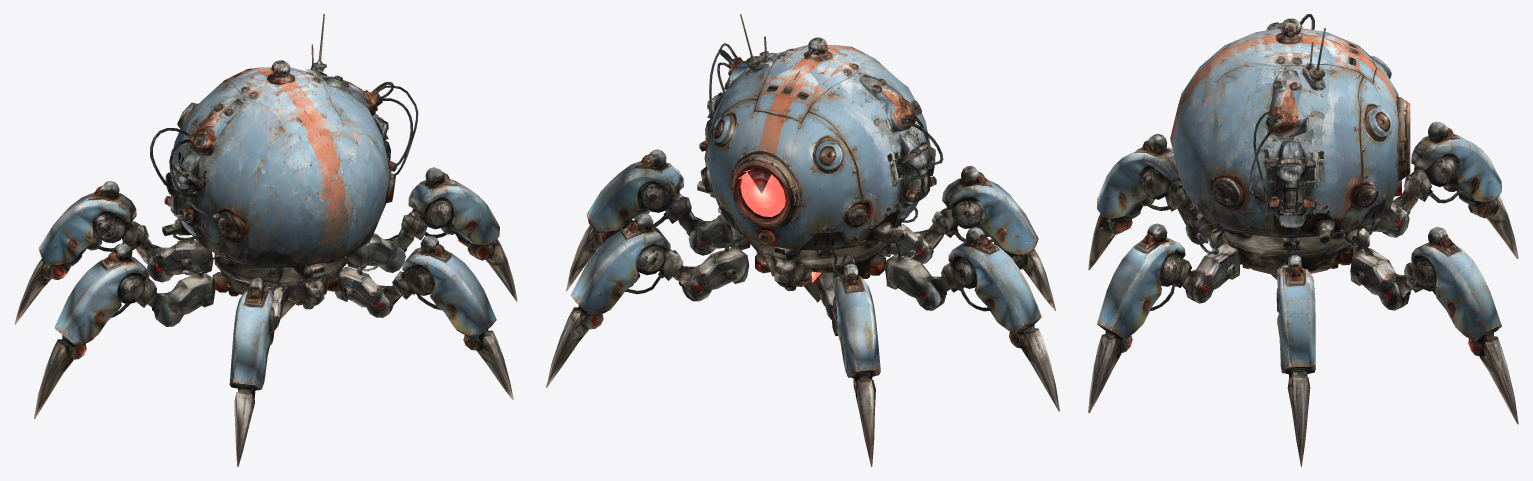
Rendered from tick.glb.
The picture shows the model from 3 angles, left to right: view 1: azimuth 30°, elevation 25°; view 2: azimuth 150°, elevation 25°; view 3: azimuth 270°, elevation 25°; orthographic projection. The views are drawn at different scales.
Visible parts, largest first — view 1: TickBody, TickLeg1, TickLeg3, TickLeg2, TickLeg4, TickLeg0; view 2: TickBody, TickLeg1, TickLeg5, TickLeg4, TickLeg0, TickLeg2; view 3: TickBody, TickLeg5, TickLeg3, TickLeg2, TickLeg0, TickLeg4.
Part boxes in pixels (x1,y1,x2,y2): TickBody: (150,14,418,318); TickLeg1: (34,218,216,419); TickLeg3: (334,235,513,399); TickLeg2: (14,181,213,324); TickLeg4: (347,167,517,301); TickLeg0: (229,273,287,466); TickBody: (699,14,943,302); TickLeg1: (871,221,1059,411); TickLeg5: (546,213,749,387); TickLeg4: (566,149,750,290); TickLeg0: (879,166,1055,310); TickLeg2: (817,263,880,466); TickBody: (1170,14,1410,279); TickLeg5: (1350,226,1518,424); TickLeg3: (1088,223,1239,412); TickLeg2: (1363,121,1518,258); TickLeg0: (1088,133,1215,270); TickLeg4: (1276,219,1335,466).
Bounding box in the file's own units: 1.25 × 0.8 × 0.9063.
Materials: 2 (2 with a texture image).
